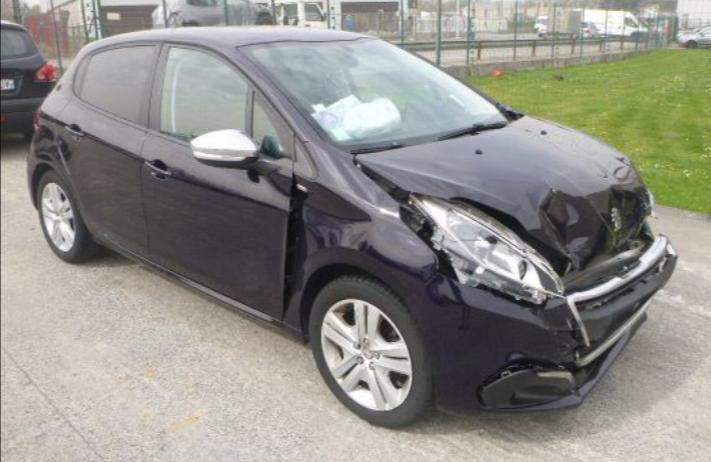Broken part: (351, 113, 656, 296), (401, 193, 563, 305), (566, 234, 676, 367), (477, 356, 601, 410), (281, 174, 299, 320)
Dent: (468, 157, 655, 274), (283, 173, 379, 321), (318, 150, 433, 259), (581, 327, 631, 397), (525, 300, 576, 363), (419, 262, 462, 305), (280, 204, 288, 290), (267, 171, 292, 198)
